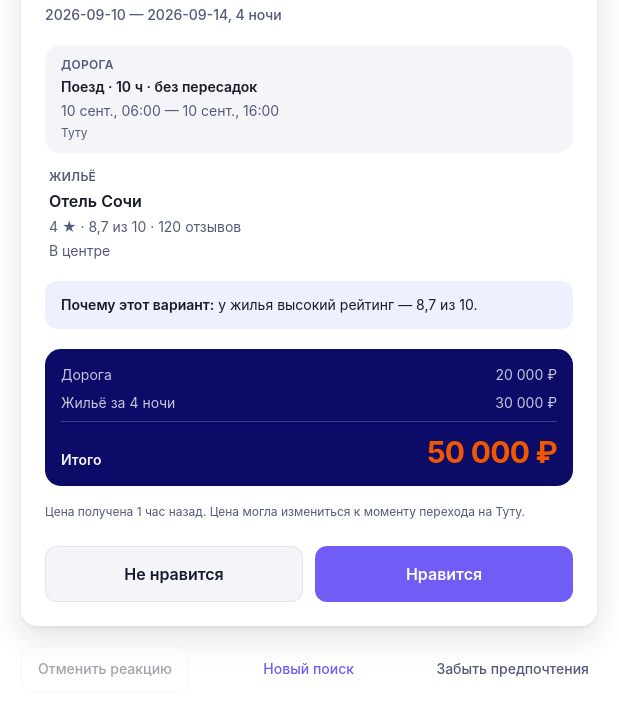
it: swipe feed › F31: sends the human-readable dislike reason дорого and shows its effect
(page scrolled)
Click the button "Не нравится" at (174, 574), box [45,546,303,602]
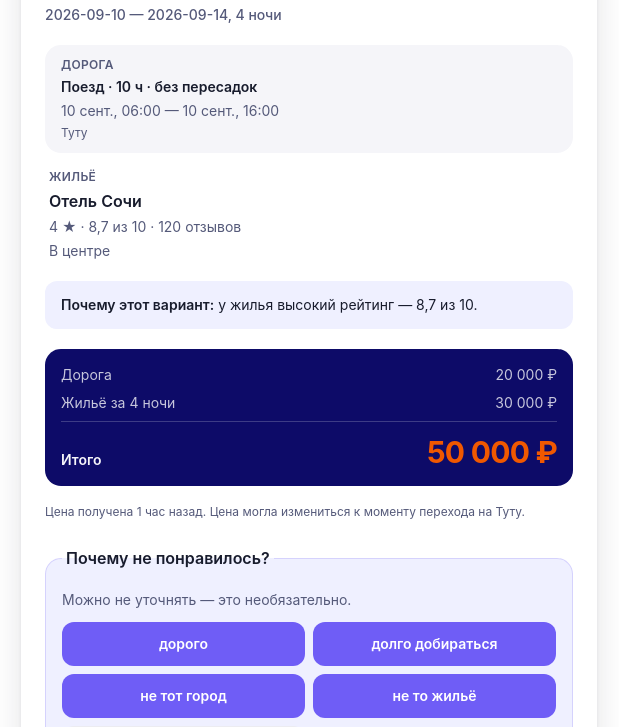
Click the button "дорого" at (184, 644), box [62,622,305,666]
(page scrolled)
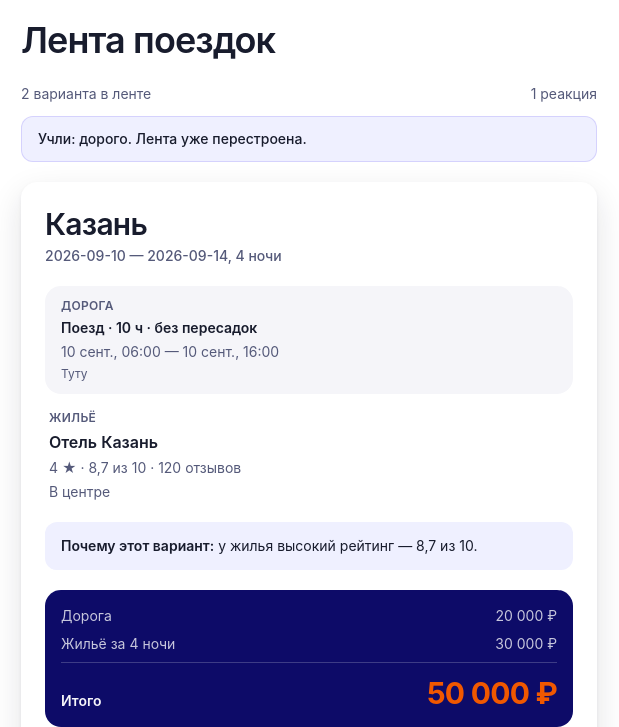
Expected: the heading "Казань" is shown, [45,206,147,242]
